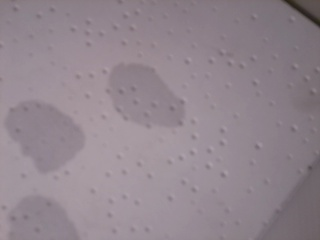Water_detected: (102, 71, 169, 126), (24, 105, 74, 166), (23, 194, 76, 240)
